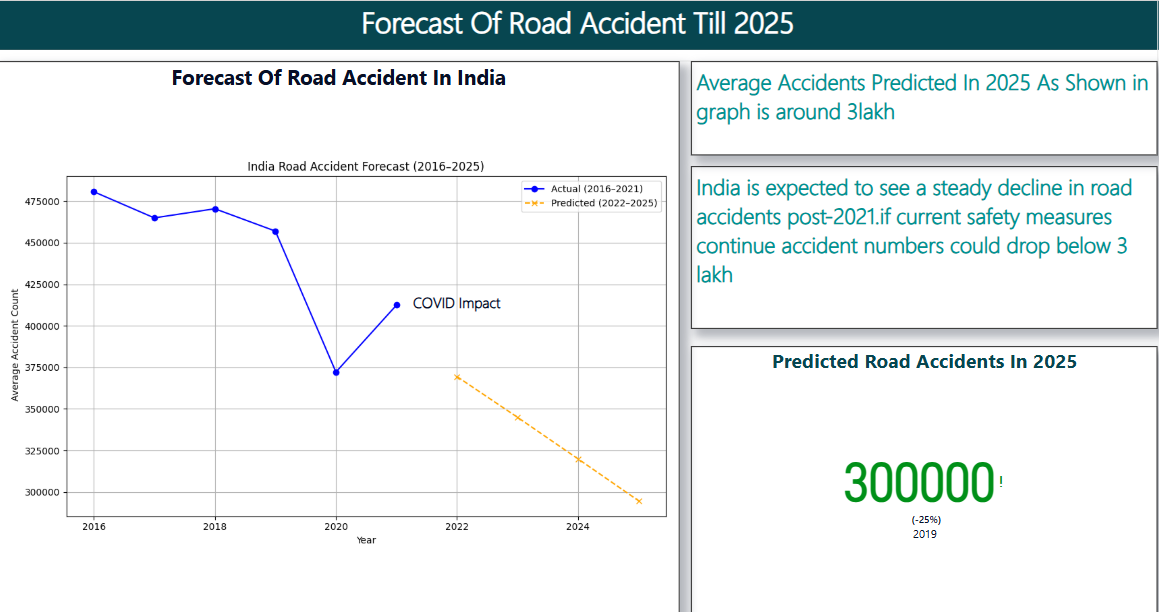

The dashboard page shown, as its layout file describes it:
{"tool":"powerbi","page":{"name":"Page 3","canvas":[1280,720],"ordinal":2},"visuals":[{"type":"shape","box":[2.7,9.6,1274.8,89.2],"z":0},{"type":"textbox","box":[1.4,41.2,1274.8,70],"z":1000},{"type":"pythonVisual","title":"Forecast Of Road Accident In India","fields":{"Values":["Road_Accident_India_2016_2019.Year","Road_Accident_India_2016_2019.Average_Accident"]},"box":[0,111.1,750.6,609.3],"z":2000},{"type":"textbox","box":[452.8,359.5,122.1,78.2],"z":3000},{"type":"textbox","box":[763,111.1,511.8,102.9],"z":4000},{"type":"textbox","box":[763,226.4,511.8,178.4],"z":5000},{"type":"kpi","title":"Predicted Road Accidents In 2025","fields":{"Indicator":["Road_Accident_India_2016_2019.Ptedicted_Accidents_2025"],"TrendLine":["Road_Accident_India_2016_2019.Year"],"Goal":["Road_Accident_India_2016_2019.target"]},"box":[763,424,511.8,296.4],"z":6000}]}

Visuals, with their boxes on the page's 1280x720 design canvas (x1, y1, x2, y2). These are canvas units, not pixel positions in the 1159x612 screenshot, which may show the page scaled, cropped or inside an application window:
shape: crop(3, 10, 1278, 99)
textbox: crop(1, 41, 1276, 111)
"Forecast Of Road Accident In India" pythonVisual: crop(0, 111, 751, 720)
textbox: crop(453, 360, 575, 438)
textbox: crop(763, 111, 1275, 214)
textbox: crop(763, 226, 1275, 405)
"Predicted Road Accidents In 2025" kpi: crop(763, 424, 1275, 720)
